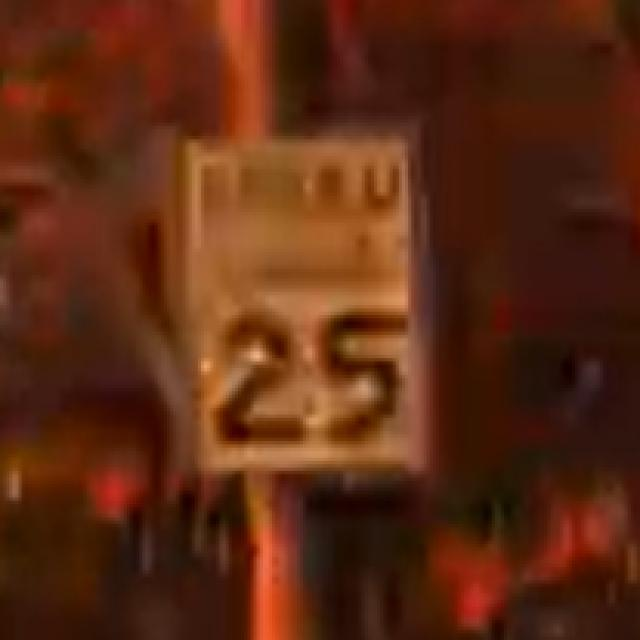speedLimit25: (178, 134, 433, 478)
